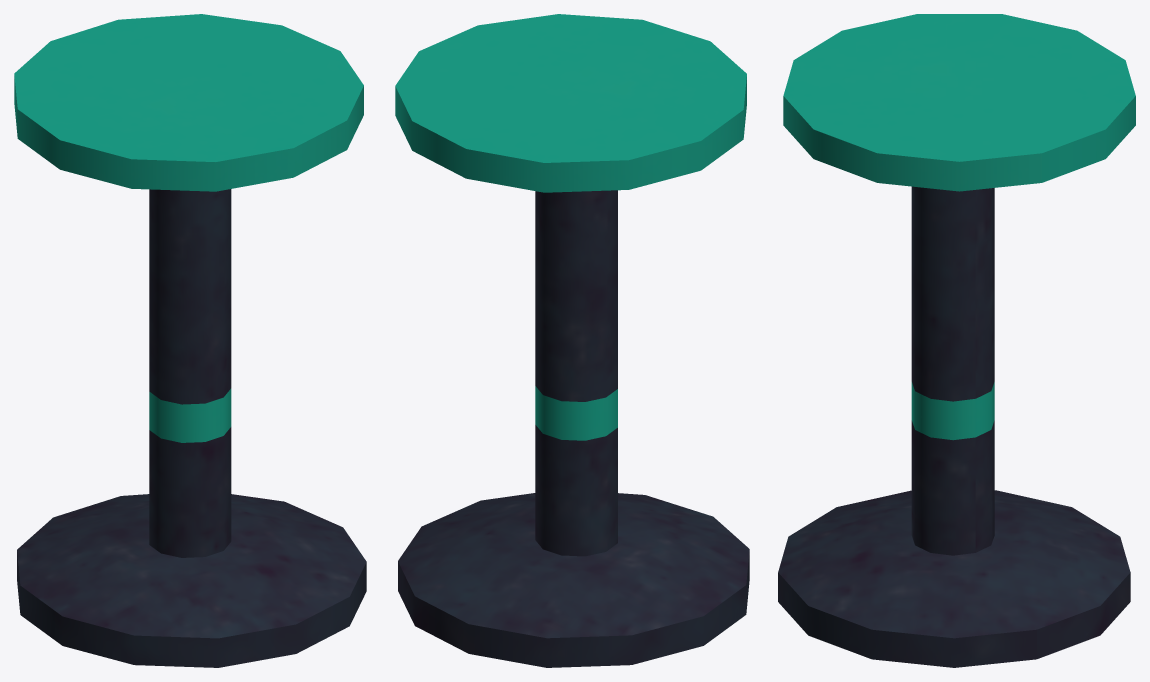
Rendered from BreakRoom_Stool.fbx.
The picture shows the model from 3 angles, left to right: view 1: azimuth 30°, elevation 25°; view 2: azimuth 150°, elevation 25°; view 3: azimuth 270°, elevation 25°; orthographic projection.
Visible parts, largest first — view 1: pCylinder5; view 2: pCylinder5; view 3: pCylinder5.
Boxes of the visible parts, bbox=[...] form: pCylinder5: bbox=[14, 14, 366, 667]; pCylinder5: bbox=[395, 14, 749, 667]; pCylinder5: bbox=[778, 14, 1135, 667].
Size of the model in its own units: 48.9 by 78.04 by 50.
